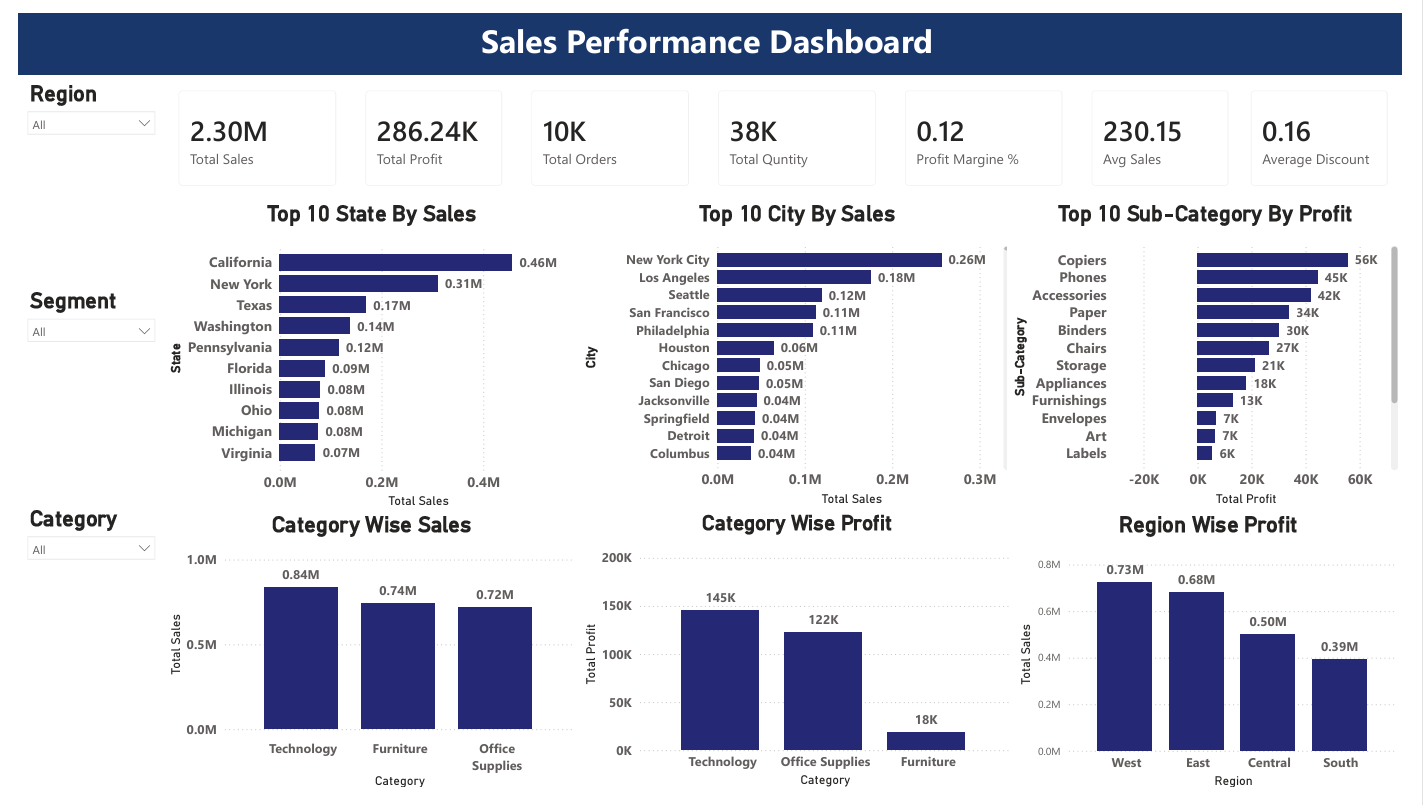

Layout of this report page (visuals, bound fields, positions):
{"tool":"powerbi","page":{"name":"Page 1","canvas":[1600,900],"ordinal":0},"visuals":[{"type":"textbox","box":[-8,0,1608,72],"z":0},{"type":"slicer","fields":{"Values":["SampleSuperstore_clean_data.Region"]},"box":[0,72,168,240],"z":1000},{"type":"slicer","fields":{"Values":["SampleSuperstore_clean_data.Segment"]},"box":[0,312,168,264],"z":2000},{"type":"slicer","fields":{"Values":["SampleSuperstore_clean_data.Category"]},"box":[0,564,168,336],"z":3000},{"type":"cardVisual","fields":{"Data":["SampleSuperstore_clean_data.Total Sales"]},"box":[168,72,216,144],"z":4000},{"type":"cardVisual","fields":{"Data":["SampleSuperstore_clean_data.Total Profit"]},"box":[384,72,192,144],"z":5000},{"type":"cardVisual","fields":{"Data":["SampleSuperstore_clean_data.Total Orders"]},"box":[576,72,216,144],"z":6000},{"type":"cardVisual","fields":{"Data":["SampleSuperstore_clean_data.Total Quntity"]},"box":[792,72,216,144],"z":7000},{"type":"cardVisual","fields":{"Data":["SampleSuperstore_clean_data.Profit Margine %"]},"box":[1008,72,216,144],"z":8000},{"type":"cardVisual","fields":{"Data":["SampleSuperstore_clean_data.Avg Sales"]},"box":[1224,72,192,144],"z":9000},{"type":"cardVisual","fields":{"Data":["SampleSuperstore_clean_data.Average Discount"]},"box":[1408,72,192,144],"z":10000},{"type":"clusteredBarChart","title":"Top 10 State By Sales","fields":{"Category":["SampleSuperstore_clean_data.State"],"Y":["SampleSuperstore_clean_data.Total Sales"]},"box":[168,216,480,360],"z":11000},{"type":"clusteredBarChart","title":"Top 10 City By Sales","fields":{"Category":["SampleSuperstore_clean_data.City"],"Y":["SampleSuperstore_clean_data.Total Sales"]},"box":[648,216,504,360],"z":12000},{"type":"clusteredBarChart","title":"Top 10 Sub-Category By Profit","fields":{"Y":["SampleSuperstore_clean_data.Total Profit"],"Category":["SampleSuperstore_clean_data.Sub-Category"]},"box":[1144,216,456,360],"z":13000},{"type":"clusteredColumnChart","title":"Category Wise Sales","fields":{"Category":["SampleSuperstore_clean_data.Category"],"Y":["SampleSuperstore_clean_data.Total Sales"]},"box":[168,576,480,324],"z":14000},{"type":"clusteredColumnChart","title":"Category Wise Profit","fields":{"Category":["SampleSuperstore_clean_data.Category"],"Y":["SampleSuperstore_clean_data.Total Profit"]},"box":[648,576,504,324],"z":15000},{"type":"clusteredColumnChart","title":"Region Wise Profit","fields":{"Category":["SampleSuperstore_clean_data.Region"],"Y":["SampleSuperstore_clean_data.Total Sales"]},"box":[1152,576,448,324],"z":16000}]}

Visuals, with their boxes in screenshot pixels (x1, y1, x2, y2), scaled from the page's 1600x900 canvas onto the 1423x805 screenshot:
textbox: box=[0, 0, 1422, 64]
slicer - SampleSuperstore_clean_data.Region: box=[0, 64, 149, 279]
slicer - SampleSuperstore_clean_data.Segment: box=[0, 279, 149, 515]
slicer - SampleSuperstore_clean_data.Category: box=[0, 504, 149, 804]
cardVisual - SampleSuperstore_clean_data.Total Sales: box=[149, 64, 342, 193]
cardVisual - SampleSuperstore_clean_data.Total Profit: box=[342, 64, 512, 193]
cardVisual - SampleSuperstore_clean_data.Total Orders: box=[512, 64, 704, 193]
cardVisual - SampleSuperstore_clean_data.Total Quntity: box=[704, 64, 896, 193]
cardVisual - SampleSuperstore_clean_data.Profit Margine %: box=[896, 64, 1089, 193]
cardVisual - SampleSuperstore_clean_data.Avg Sales: box=[1089, 64, 1259, 193]
cardVisual - SampleSuperstore_clean_data.Average Discount: box=[1252, 64, 1422, 193]
"Top 10 State By Sales" clusteredBarChart: box=[149, 193, 576, 515]
"Top 10 City By Sales" clusteredBarChart: box=[576, 193, 1025, 515]
"Top 10 Sub-Category By Profit" clusteredBarChart: box=[1017, 193, 1422, 515]
"Category Wise Sales" clusteredColumnChart: box=[149, 515, 576, 804]
"Category Wise Profit" clusteredColumnChart: box=[576, 515, 1025, 804]
"Region Wise Profit" clusteredColumnChart: box=[1025, 515, 1422, 804]
